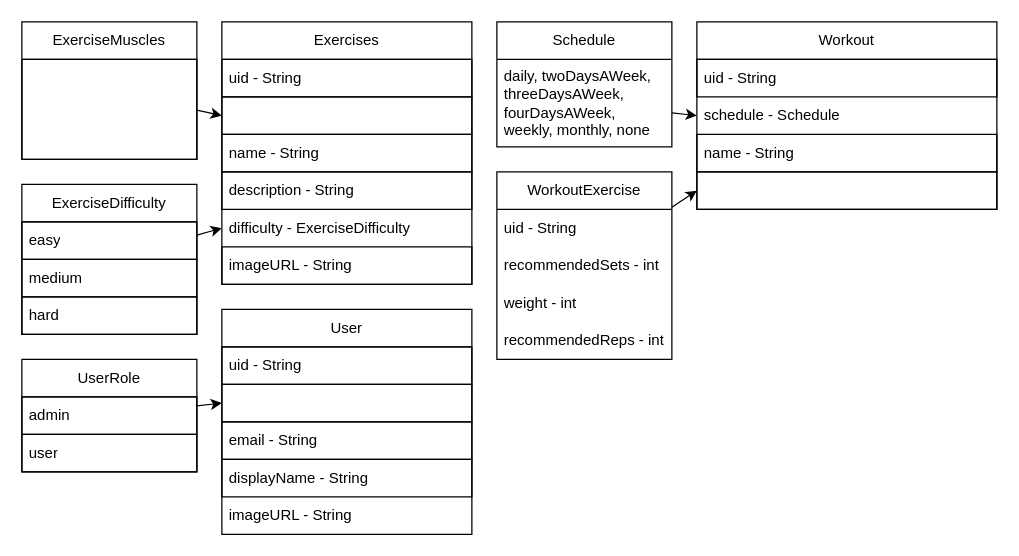
This 1019x556 diagram has some shape labels left out. Here are the shapes that lost their labels. From the top down, the centre of each, then its label:
point 109,108: chest, back, shoulders, biceps, triceps, legs, abs, cardio, fullbody, other
point 346,115: muscles - List<ExerciseMuscles>
point 846,190: workoutExercises - List<WorkoutExercise>
point 346,402: role - UserRole
